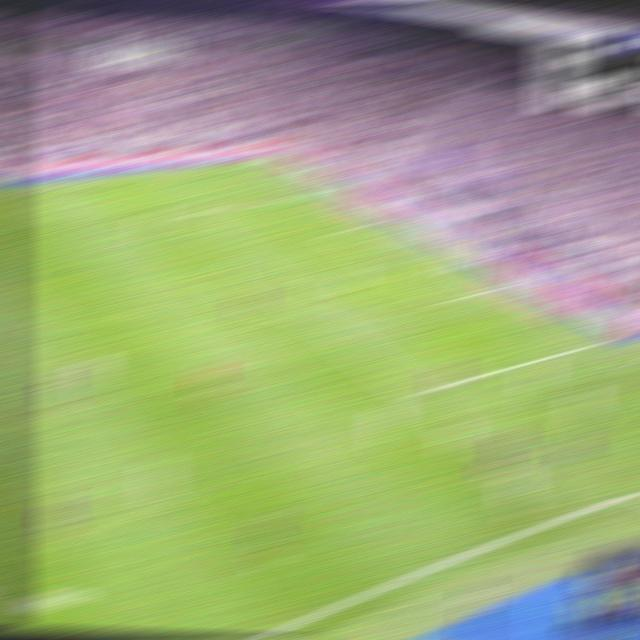bigarea_bottom_inner: (401, 382, 430, 403)
bigarea_top_inner: (173, 210, 195, 218)
bigarea_top_outter: (309, 187, 333, 195)
bottom_arc_area_intersection: (303, 310, 331, 324)
corner: (252, 158, 278, 164)
smallarea_bottom_inner: (433, 292, 460, 306)
smallarea_bottom_outter: (482, 282, 509, 293)
smallarea_top_inner: (322, 227, 345, 234)
top_arc_area_intersection: (224, 249, 250, 260)
